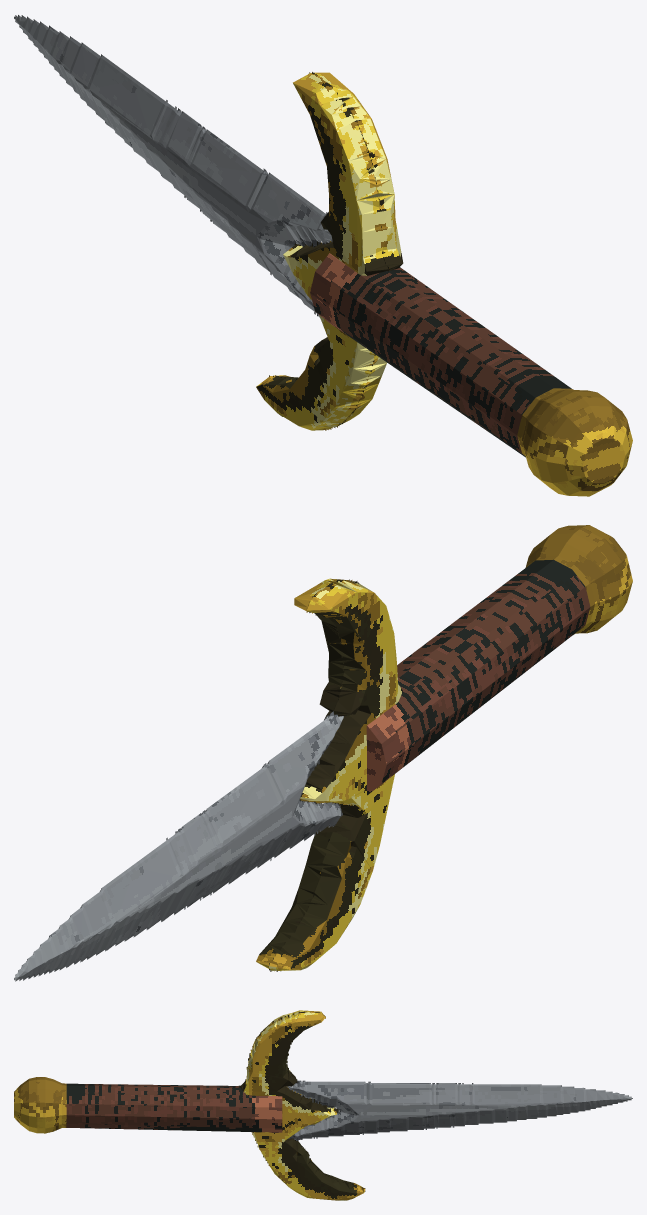
File: dagger.glb
3 views of the same model, one above another, from view 1: azimuth 30°, elevation 25°; view 2: azimuth 150°, elevation 25°; view 3: azimuth 270°, elevation 25° (orthographic). The views are drawn at different scales.
Visible parts, largest first — view 1: guard, blade, grip, pommel; view 2: guard, blade, grip, pommel; view 3: blade, grip, guard, pommel.
Part boxes in pixels (left/top/right/bottom): guard: left=256, top=72, right=403, bottom=430; blade: left=14, top=15, right=332, bottom=317; grip: left=310, top=253, right=571, bottom=457; pommel: left=517, top=388, right=632, bottom=496; guard: left=256, top=578, right=402, bottom=971; blade: left=14, top=711, right=343, bottom=981; grip: left=366, top=559, right=590, bottom=795; pommel: left=525, top=525, right=632, bottom=634; blade: left=286, top=1080, right=632, bottom=1140; grip: left=66, top=1083, right=282, bottom=1132; guard: left=239, top=1010, right=365, bottom=1200; pommel: left=14, top=1077, right=66, bottom=1133.
Bounding box in the file's own units: 0.0346 × 0.1258 × 0.3779.
2 materials, 2 textured.
